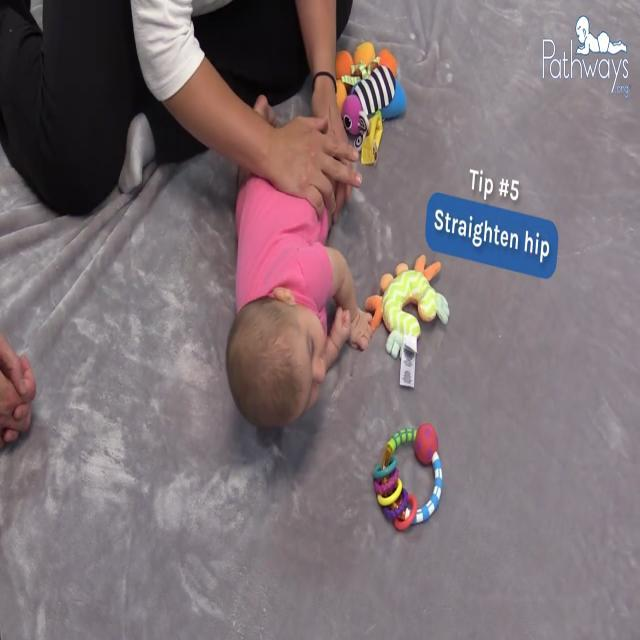baby: (224, 82, 374, 442)
